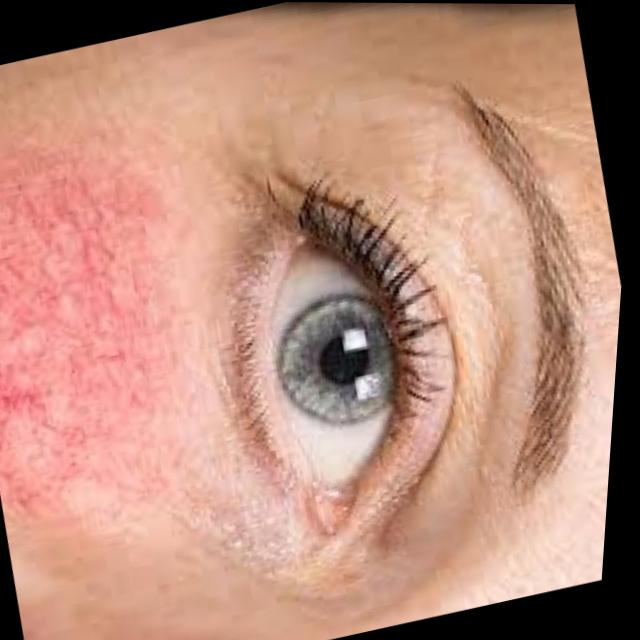Rosacea: (0, 166, 231, 516)
